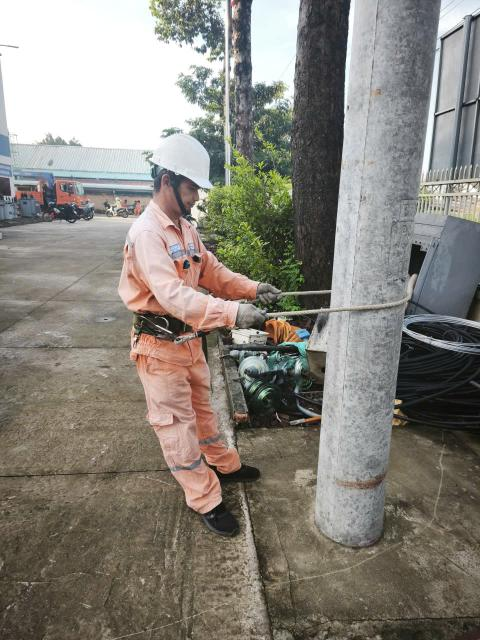gloves: (217, 296, 268, 342), (244, 279, 288, 307)
harness: (120, 300, 223, 356)
helmet: (142, 128, 238, 204)
shoes: (211, 430, 272, 488), (183, 489, 239, 538)
